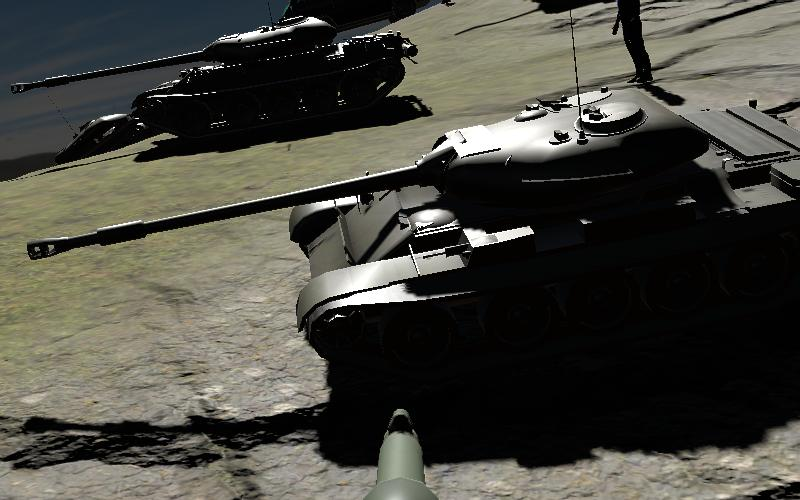Tank: (20, 100, 734, 369), (11, 15, 416, 147), (49, 108, 146, 167)
